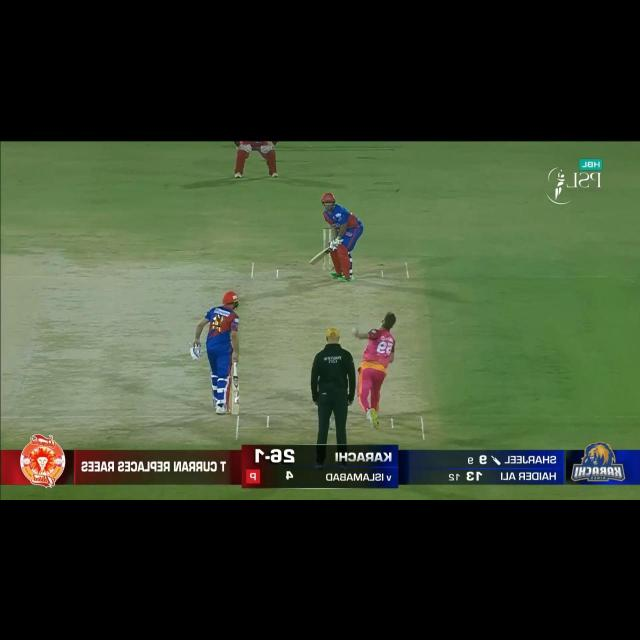bat: (228, 373, 243, 418), (306, 249, 331, 267)
toe: (229, 408, 242, 417), (308, 256, 317, 267)
